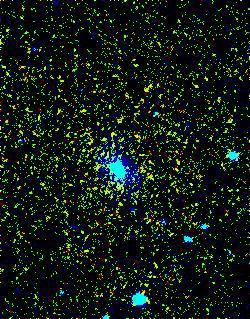star: (83, 149, 113, 179)
